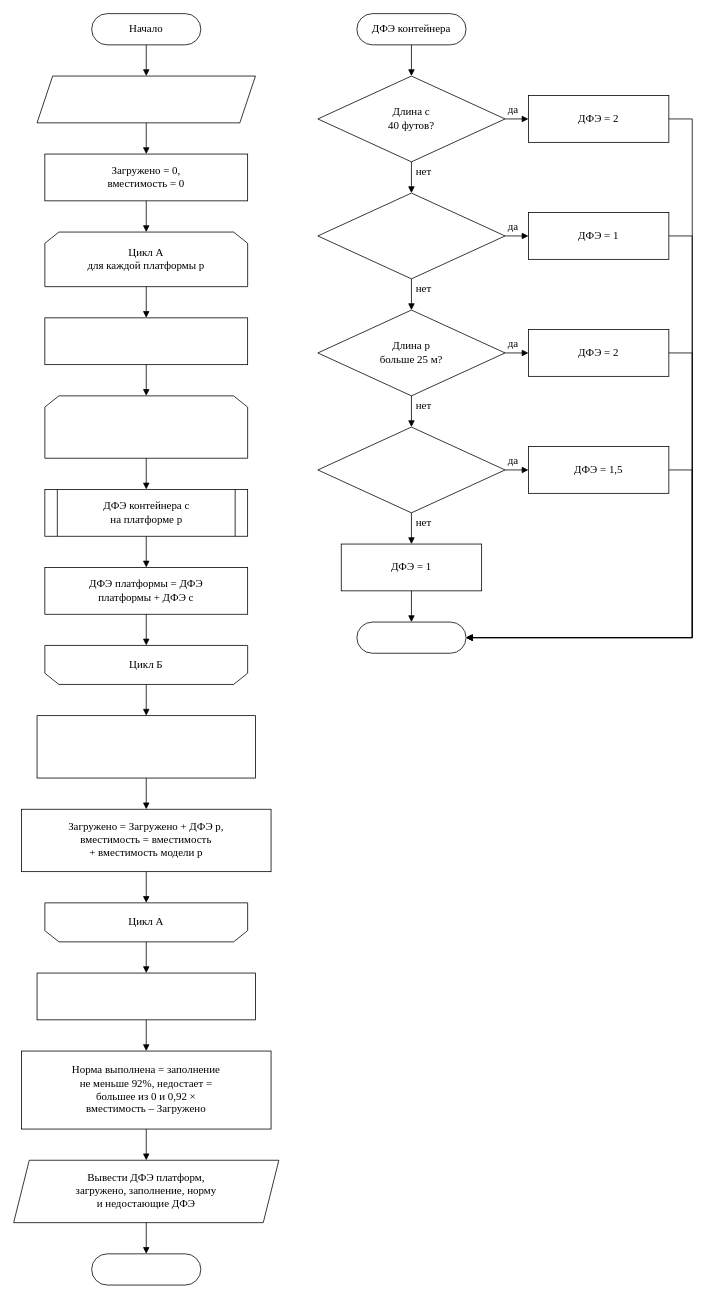
Image size: 712x1299. Some labels were removed from this diagram. The centre of each missing label's shape, as x and y in pixels:
"Ввести загрузку платформ поезда" belongs at pixel 145 99.
"Возврат" belongs at pixel 411 637.
"Длина p не меньше 19 м?" belongs at pixel 411 469.
"ДФЭ p = меньшее из ДФЭ платформы и вместимости модели p" belongs at pixel 145 746.
"ДФЭ платформы = 0" belongs at pixel 146 341.
"Заполнение = Загружено / вместимость × 100%" belongs at pixel 145 996.
"Конец" belongs at pixel 146 1269.
"Масса брутто c не больше 24 т?" belongs at pixel 411 235.
"Цикл Б для каждого контейнера c на платформе p" belongs at pixel 146 426.
